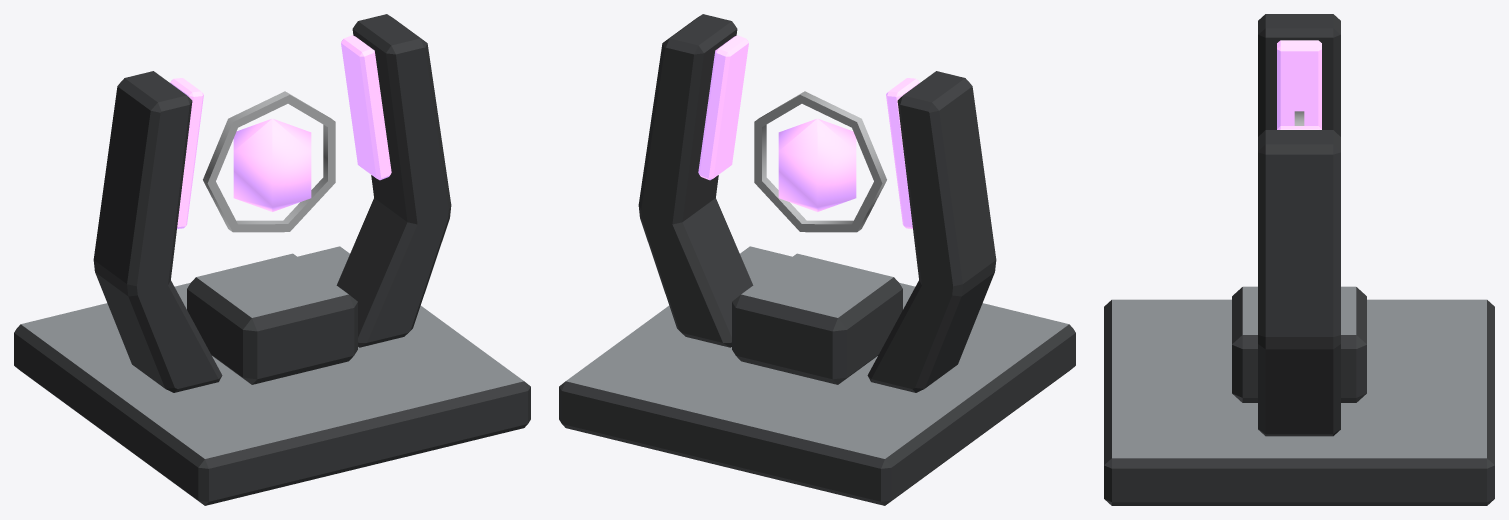
File: R4X_Blink_LOD1.fbx
3 renders of one model, left to right at view 1: azimuth 30°, elevation 25°; view 2: azimuth 150°, elevation 25°; view 3: azimuth 270°, elevation 25°, orthographic.
Parts seen in each view (by area): view 1: R4X_Blink_LOD1; view 2: R4X_Blink_LOD1; view 3: R4X_Blink_LOD1.
Part boxes in pixels (left/top/right/bottom): R4X_Blink_LOD1: left=14, top=14, right=530, bottom=505; R4X_Blink_LOD1: left=559, top=14, right=1075, bottom=505; R4X_Blink_LOD1: left=1104, top=14, right=1494, bottom=505.
Size of the model in its own units: 0.52 by 0.51 by 0.52.
